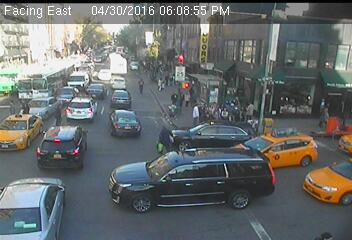neg: (108, 173, 138, 212), (51, 174, 73, 205), (81, 176, 103, 205), (149, 160, 169, 186), (248, 160, 268, 186), (18, 134, 37, 160), (294, 149, 313, 175), (154, 21, 170, 43), (133, 20, 149, 41), (179, 167, 195, 188), (208, 156, 224, 176), (192, 23, 207, 44), (34, 34, 49, 55), (278, 151, 292, 171), (7, 42, 21, 61), (42, 63, 55, 82), (179, 25, 191, 41), (68, 33, 80, 48), (105, 25, 112, 34), (91, 48, 97, 56)
pos: (51, 102, 71, 128), (317, 102, 336, 127), (18, 98, 34, 120), (186, 103, 202, 124), (246, 100, 261, 120), (2, 97, 17, 117), (136, 76, 150, 94), (169, 91, 182, 110), (188, 81, 201, 99), (155, 75, 166, 89)
